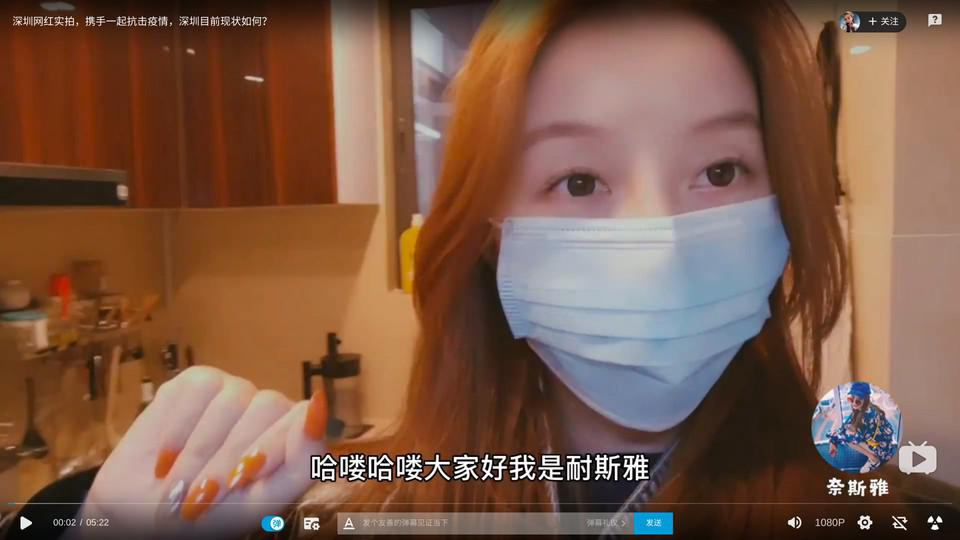OK: (494, 85, 780, 429)
